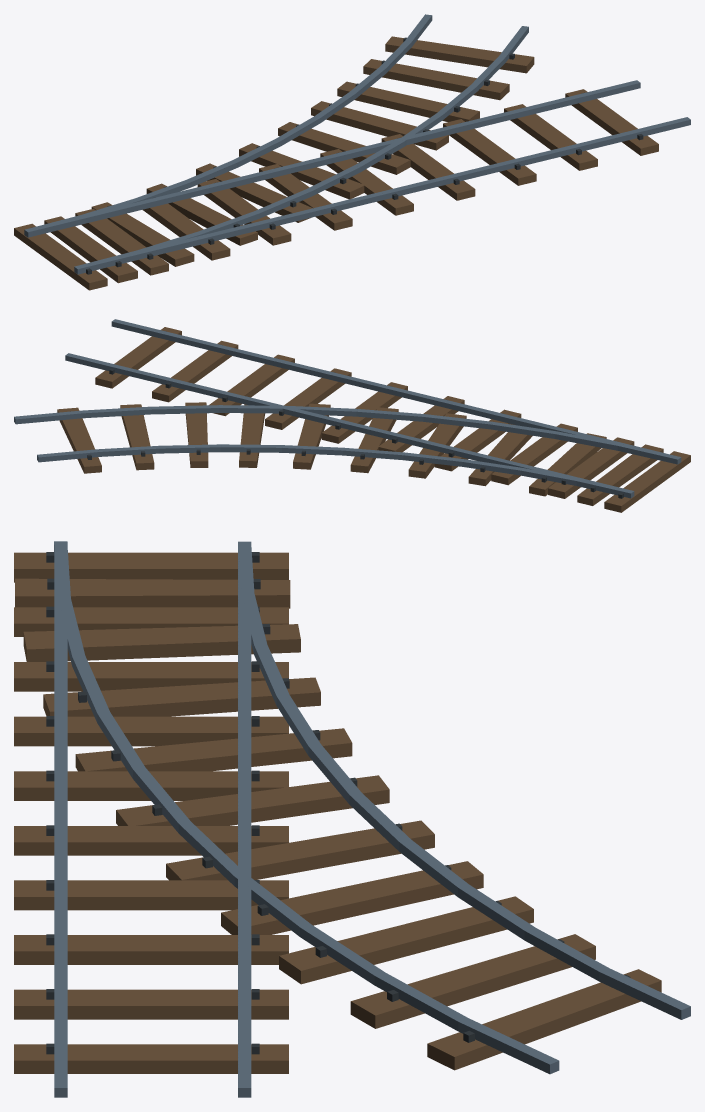
File: TracksIntersectionOutLeft.FBX
3 renders of one model, top to bottom at view 1: azimuth 30°, elevation 25°; view 2: azimuth 150°, elevation 25°; view 3: azimuth 270°, elevation 25°, orthographic. The views are drawn at different scales.
Parts seen in each view (by area): view 1: Box029; view 2: Box029; view 3: Box029.
Part boxes in pixels (bbox=[...]): Box029: bbox=[14, 14, 690, 290]; Box029: bbox=[14, 319, 690, 512]; Box029: bbox=[14, 541, 690, 1097].
Size of the model in its own units: 10.01 by 0.2086 by 5.24.
